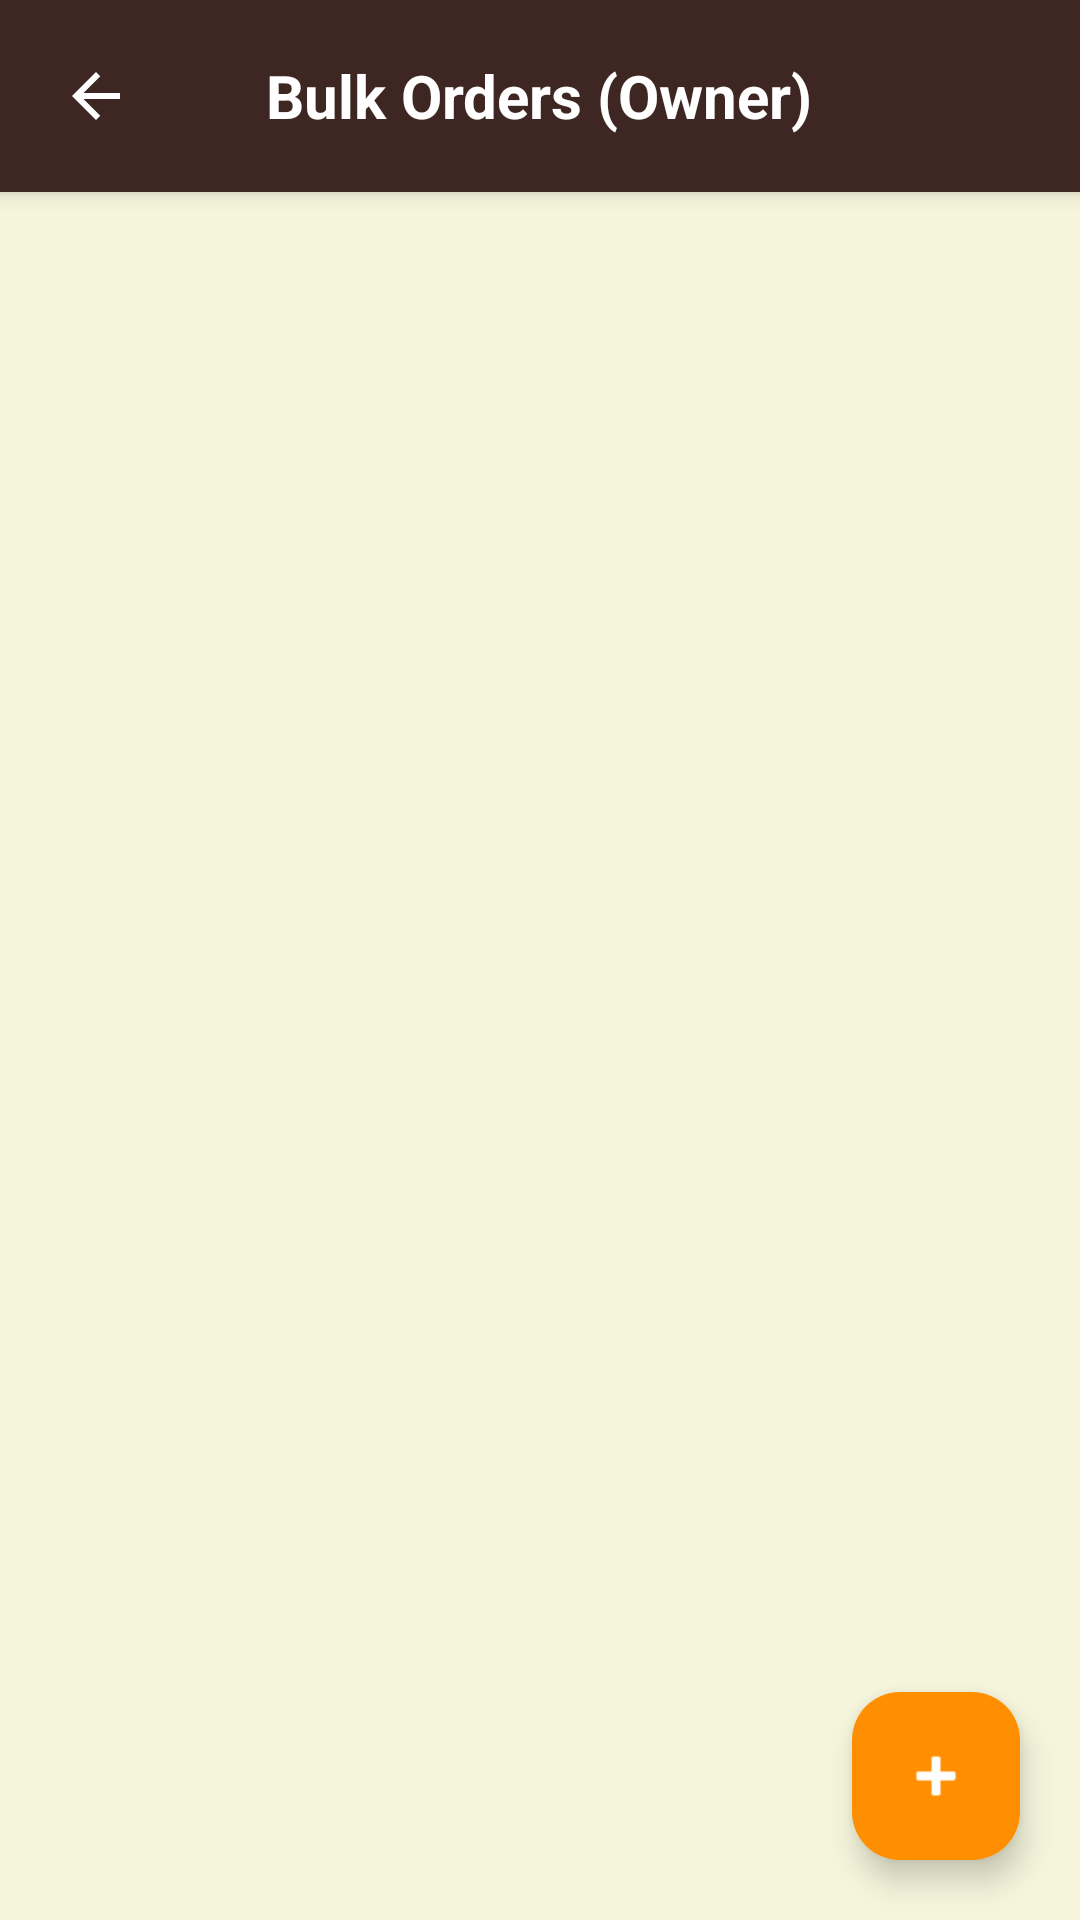

Named icons in this screenshot (1080px x 1920px) and their bounding boxes, bbox=[x1, y1, x2, y2]:
add: bbox=[852, 1692, 1020, 1860]
back: bbox=[72, 72, 120, 120]
